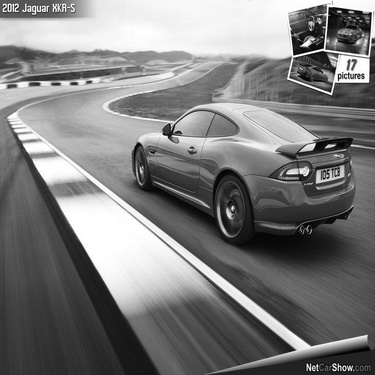car: (95, 108, 362, 250), (316, 4, 368, 56), (285, 2, 325, 54), (291, 59, 329, 87)
